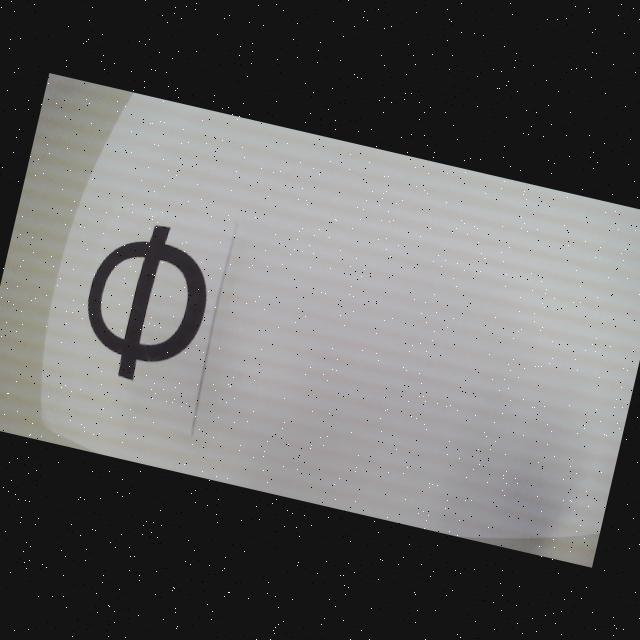PHI: (71, 212, 222, 393)
